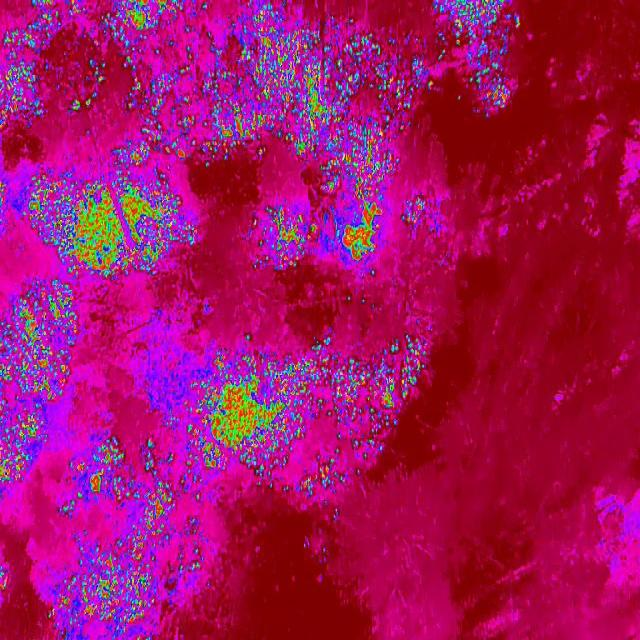fire: (67, 0, 437, 168), (184, 328, 428, 497), (16, 172, 198, 280), (47, 540, 163, 640), (435, 0, 520, 119), (0, 281, 78, 405), (0, 0, 64, 136), (58, 434, 141, 518), (330, 168, 390, 271), (122, 476, 182, 562), (255, 204, 318, 268), (0, 400, 41, 485), (400, 192, 428, 232), (182, 544, 206, 574), (0, 564, 9, 596), (0, 179, 6, 213)
